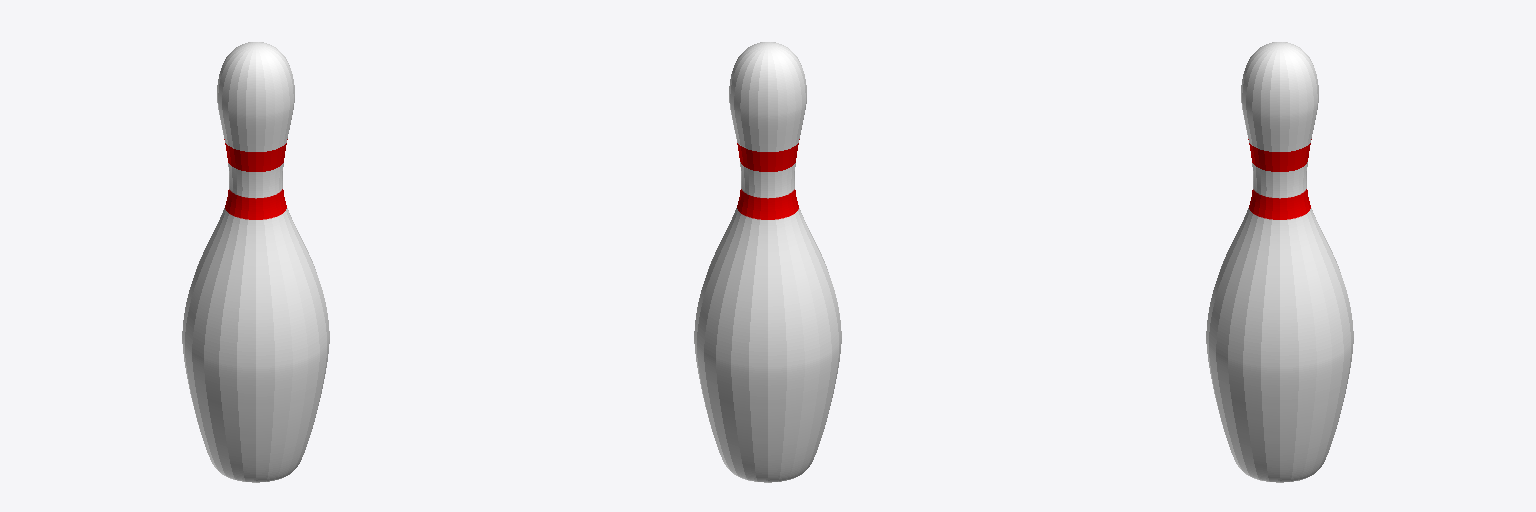
3 renders of one model, left to right at view 1: azimuth 30°, elevation 25°; view 2: azimuth 150°, elevation 25°; view 3: azimuth 270°, elevation 25°, orthographic.
Visible parts, largest first — view 1: scaledPin_High:Poly:Pin; view 2: scaledPin_High:Poly:Pin; view 3: scaledPin_High:Poly:Pin.
Boxes of the visible parts, <box> form: scaledPin_High:Poly:Pin: <box>182,42,329,482</box>; scaledPin_High:Poly:Pin: <box>694,42,841,482</box>; scaledPin_High:Poly:Pin: <box>1206,42,1353,482</box>.
Size of the model in its own units: 4.57 by 14.4 by 4.57.
Materials: 1 (1 with a texture image).